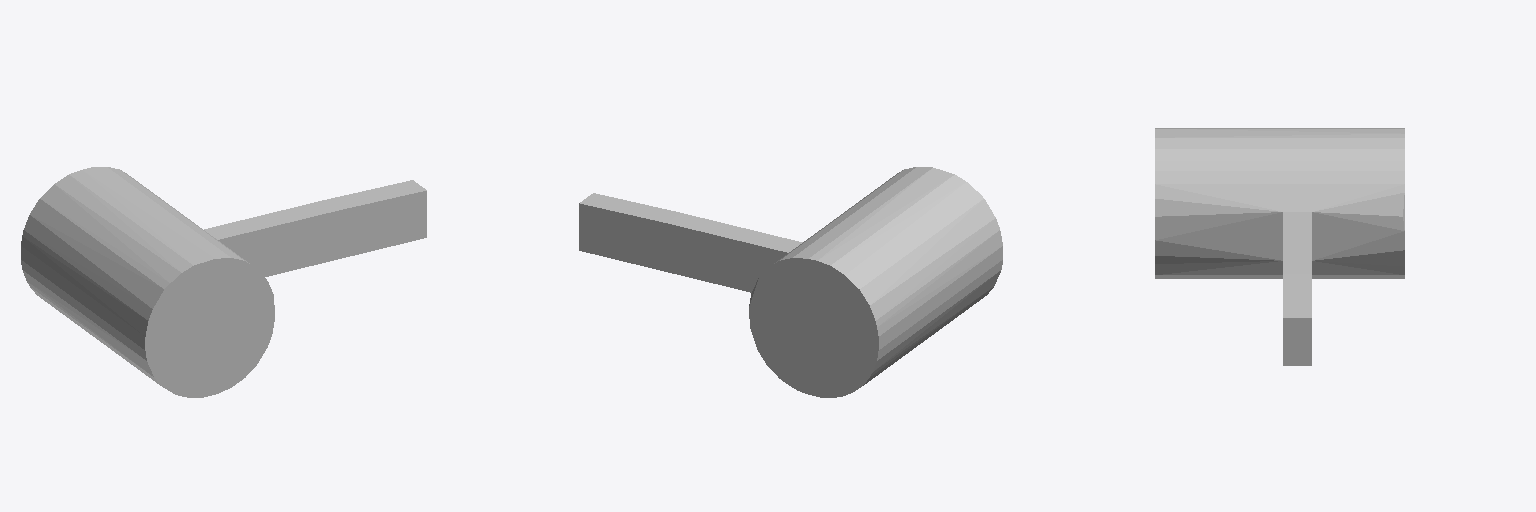
The picture shows the model from 3 angles: view 1: azimuth 30°, elevation 25°; view 2: azimuth 150°, elevation 25°; view 3: azimuth 270°, elevation 25°; orthographic projection.
Visible parts, largest first — view 1: convex_0, convex_1; view 2: convex_0, convex_1; view 3: convex_0, convex_1.
Part boxes in pixels (x1,y1,x2,y2): convex_0: (21, 167, 274, 397); convex_1: (204, 180, 426, 276); convex_0: (749, 167, 1002, 397); convex_1: (579, 193, 802, 292); convex_0: (1155, 128, 1404, 278); convex_1: (1283, 212, 1311, 365).
Bounding box in the file's own units: 0.2403 × 0.0902 × 0.1501.